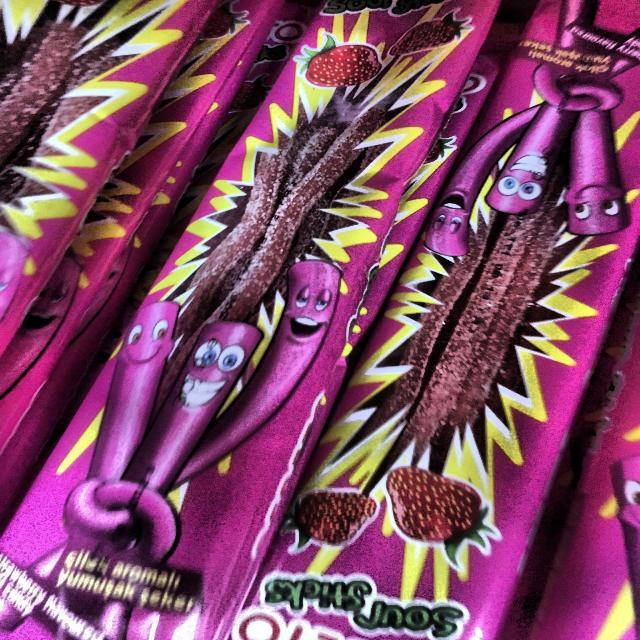Plastic: (37, 0, 528, 624), (226, 0, 640, 633)
